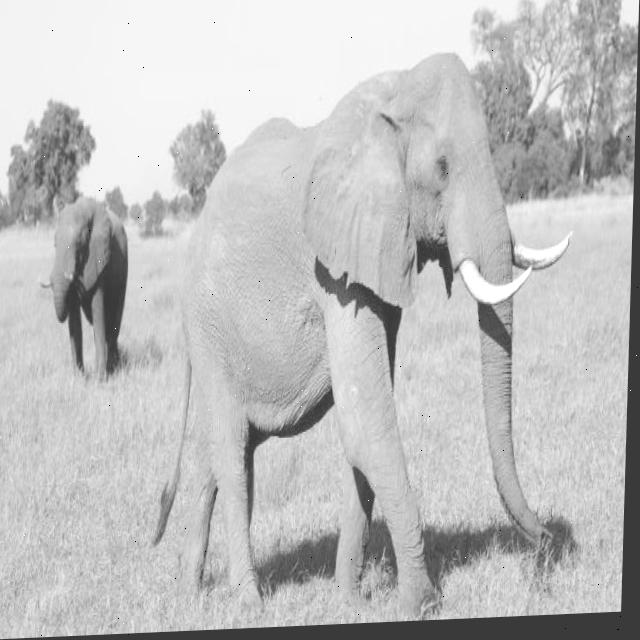Elephant: (149, 43, 579, 629), (36, 190, 130, 386)
